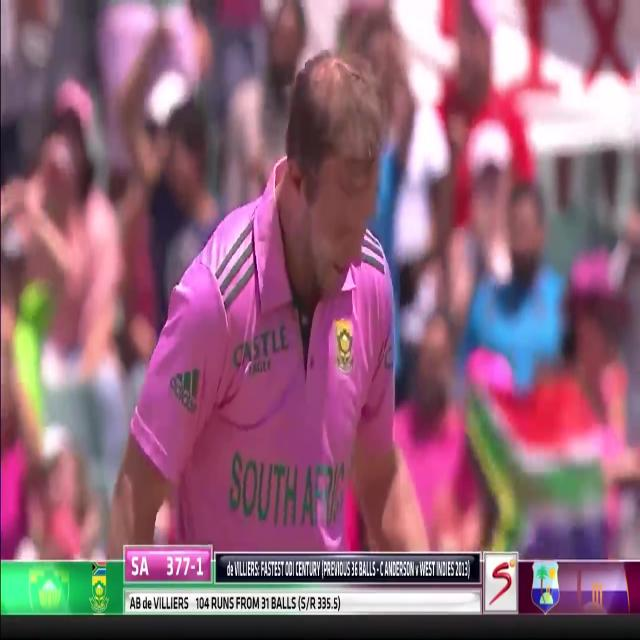Ball: (133, 37, 439, 553)
